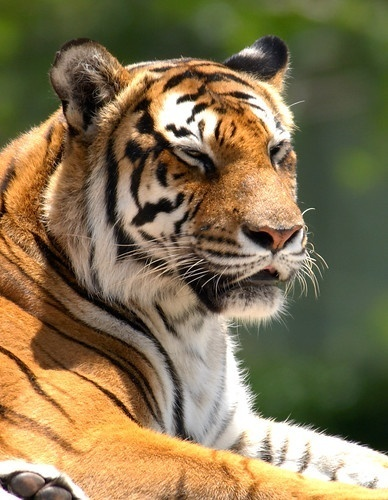tigre: (1, 36, 387, 499)
